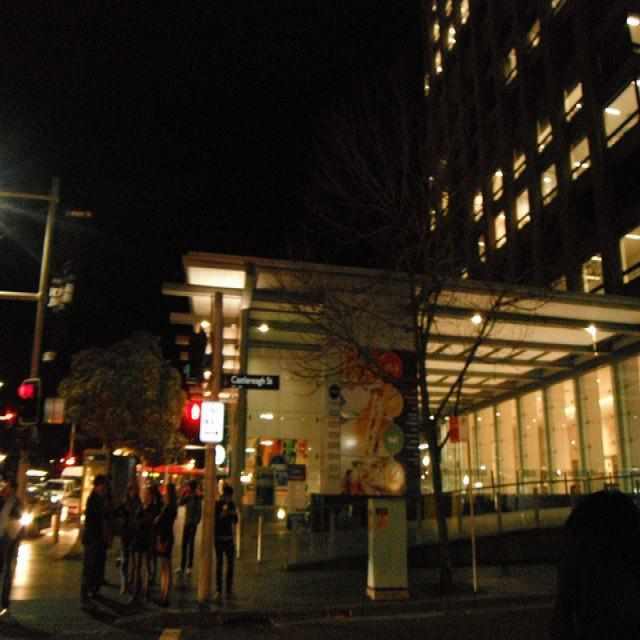Vehicle: (23, 485, 66, 539), (59, 466, 83, 525), (44, 479, 75, 500)
